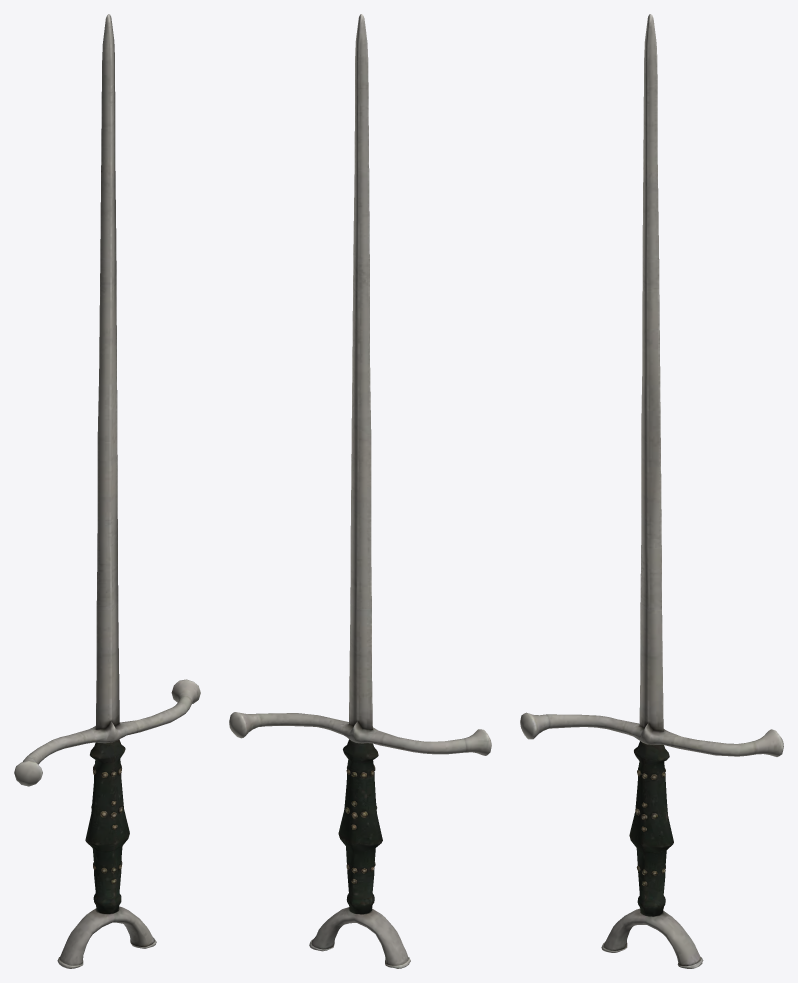
File: antique_estoc.glb
3 views of the same model, side by side, from view 1: azimuth 30°, elevation 25°; view 2: azimuth 150°, elevation 25°; view 3: azimuth 330°, elevation 25° (orthographic).
Visible parts, largest first — view 1: antique_estoc; view 2: antique_estoc; view 3: antique_estoc.
Boxes of the visible parts, x1,y1,x2,y2 form: antique_estoc: [14, 14, 200, 968]; antique_estoc: [229, 14, 491, 968]; antique_estoc: [520, 14, 783, 968].
Size of the model in its own units: 0.3715 by 1.49 by 0.149.
1 material, 1 textured.
